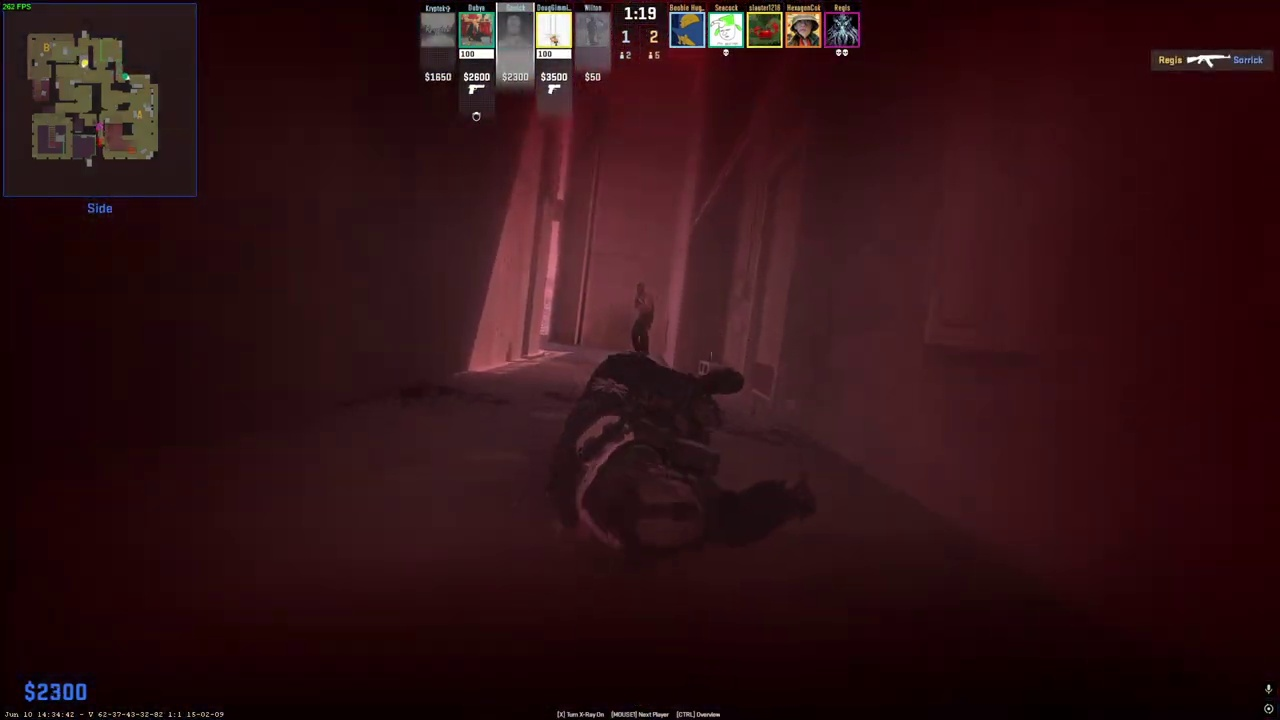Terrorist: (631, 282, 655, 352)
